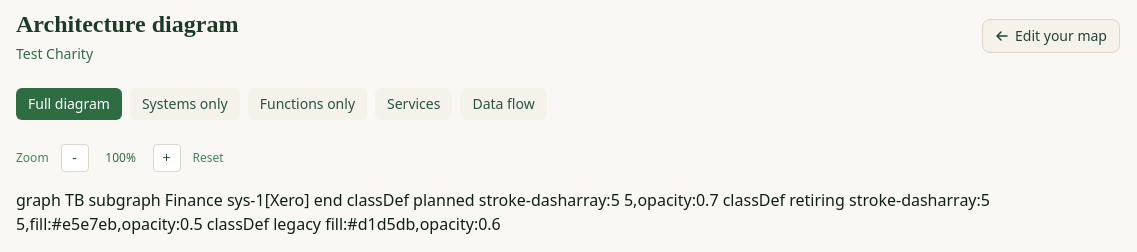
Test: DiagramView › switches view mode when toggle is clicked
Click the button "Systems only". click: (185, 104)
box: top-left (130, 88), bottom-right (240, 120)
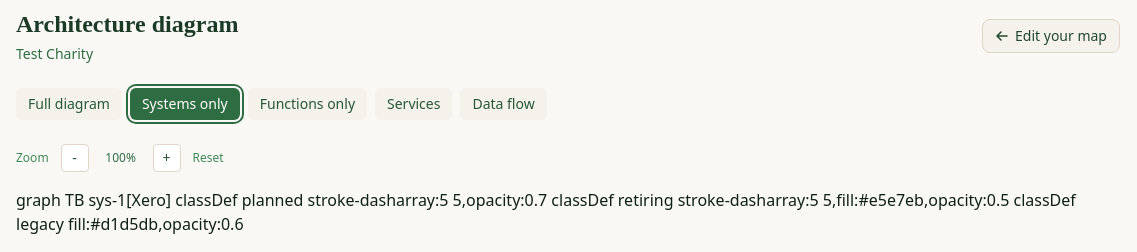
Check: the text with test id "mermaid-renderer" shows "Xero", box top-left (16, 189), bottom-right (1076, 235)
Check: the text with test id "mermaid-renderer" no longer shows "subgraph"
